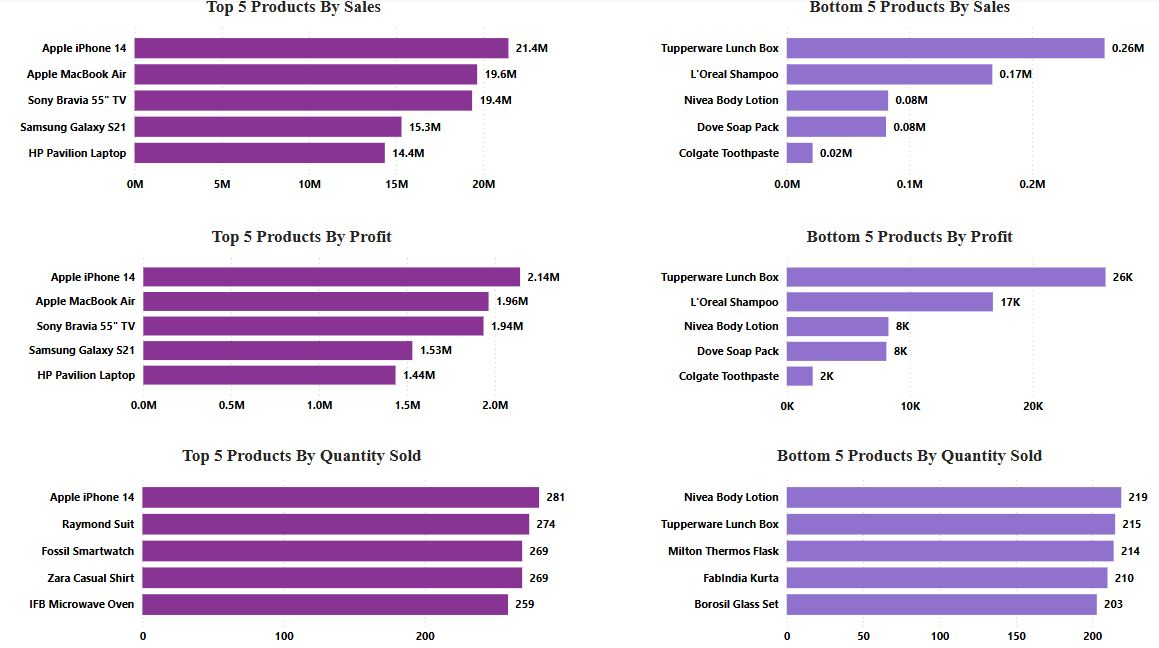

The page's visual inventory and layout, read from the dashboard file:
{"tool":"powerbi","page":{"name":"Top/Bottom 5 Products Analysis","canvas":[1280,720],"ordinal":1},"visuals":[{"type":"barChart","title":"Top 5 Products By Sales","fields":{"Category":["Dim Product.Product Name"],"Y":["Sum(Fact Table.Net Sales)"]},"box":[18.8,0,612.5,223.8],"z":0},{"type":"barChart","title":"Top 5 Products By Profit","fields":{"Category":["Dim Product.Product Name"],"Y":["Sum(Fact Table.Profit)"]},"box":[28.8,252.5,611.2,213.8],"z":1000},{"type":"barChart","title":"Bottom 5 Products By Profit","fields":{"Category":["Dim Product.Product Name"],"Y":["Sum(Fact Table.Profit)"]},"box":[722.5,252.5,557.5,215],"z":2000},{"type":"barChart","title":"Bottom 5 Products By Quantity Sold","fields":{"Category":["Dim Product.Product Name"],"Y":["Sum(Fact Table.Units Sold)"]},"box":[722.5,492.5,557.5,227.5],"z":3000},{"type":"barChart","title":"Bottom 5 Products By Sales","fields":{"Category":["Dim Product.Product Name"],"Y":["Sum(Fact Table.Net Sales)"]},"box":[722.5,0,557.5,223.8],"z":4000},{"type":"barChart","title":"Top 5 Products By Quantity Sold","fields":{"Category":["Dim Product.Product Name"],"Y":["Sum(Fact Table.Units Sold)"]},"box":[28.8,492.5,611.2,227.5],"z":5000}]}

Visuals, with their boxes in screenshot pixels (x1, y1, x2, y2), scaled from the page's 1280x720 canvas onto the 1159x648 screenshot:
"Top 5 Products By Sales" barChart: detection(17, 0, 572, 201)
"Top 5 Products By Profit" barChart: detection(26, 227, 580, 420)
"Bottom 5 Products By Profit" barChart: detection(654, 227, 1158, 421)
"Bottom 5 Products By Quantity Sold" barChart: detection(654, 443, 1158, 647)
"Bottom 5 Products By Sales" barChart: detection(654, 0, 1158, 201)
"Top 5 Products By Quantity Sold" barChart: detection(26, 443, 580, 647)
